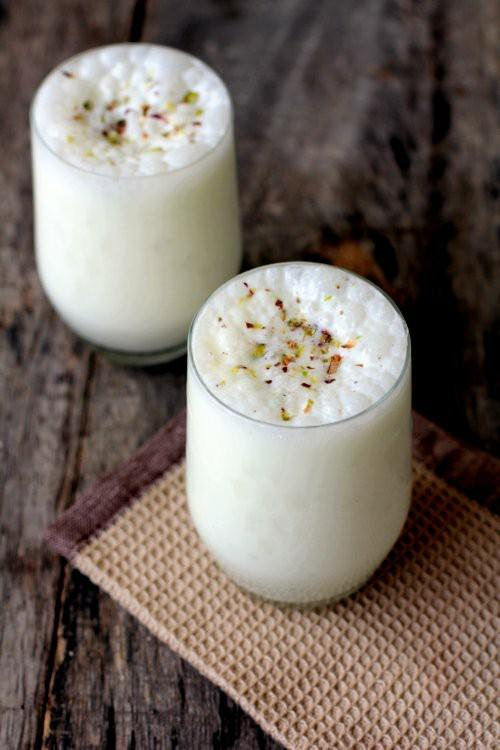Lassi: (185, 262, 412, 601), (33, 45, 242, 351)
